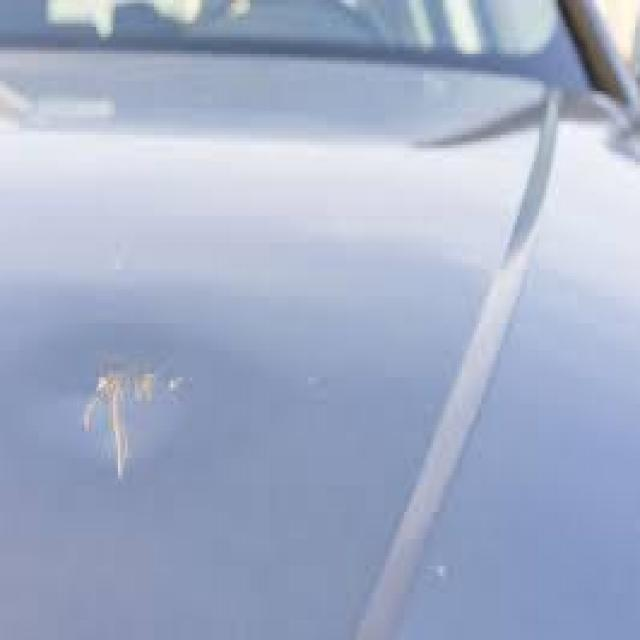dent-or-scratch: (40, 344, 206, 480)
